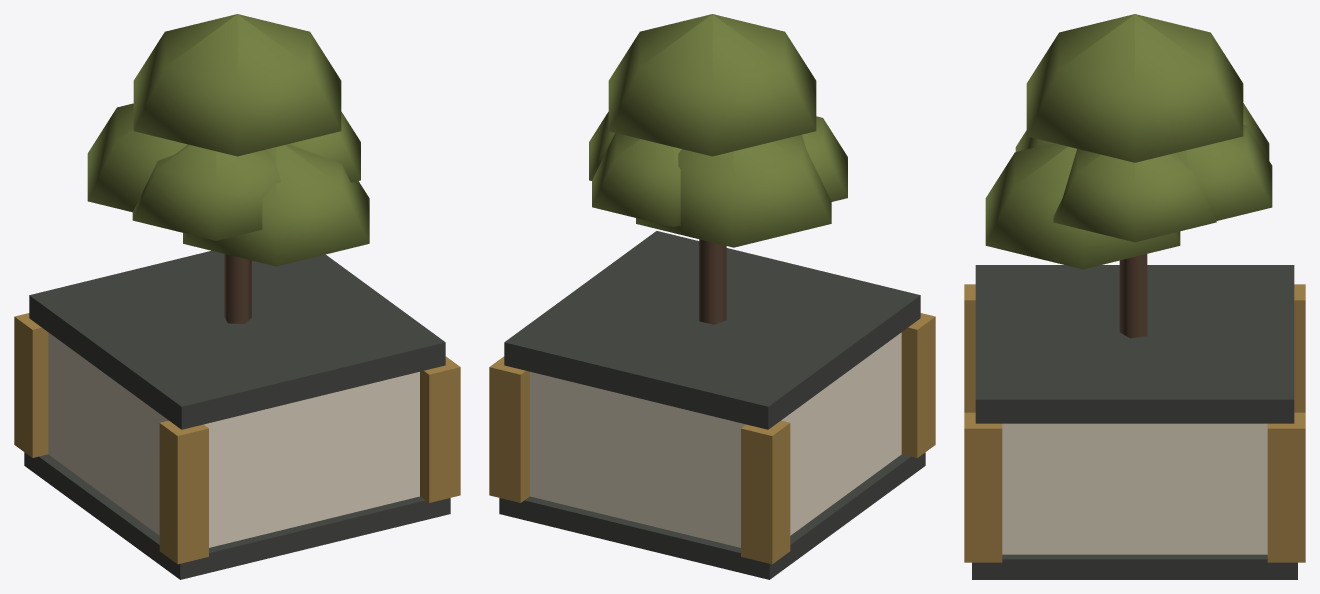
The model's file is planter.glb.
The picture shows the model from 3 angles, left to right: view 1: azimuth 30°, elevation 25°; view 2: azimuth 150°, elevation 25°; view 3: azimuth 270°, elevation 25°; orthographic projection. The views are drawn at different scales.
Parts seen in each view (by area): view 1: planter; view 2: planter; view 3: planter.
Boxes of the visible parts, <box> form: planter: <box>14,14,460,579</box>; planter: <box>489,14,935,579</box>; planter: <box>964,14,1305,579</box>.
Size of the model in its own units: 0.9 by 1.45 by 0.9.
